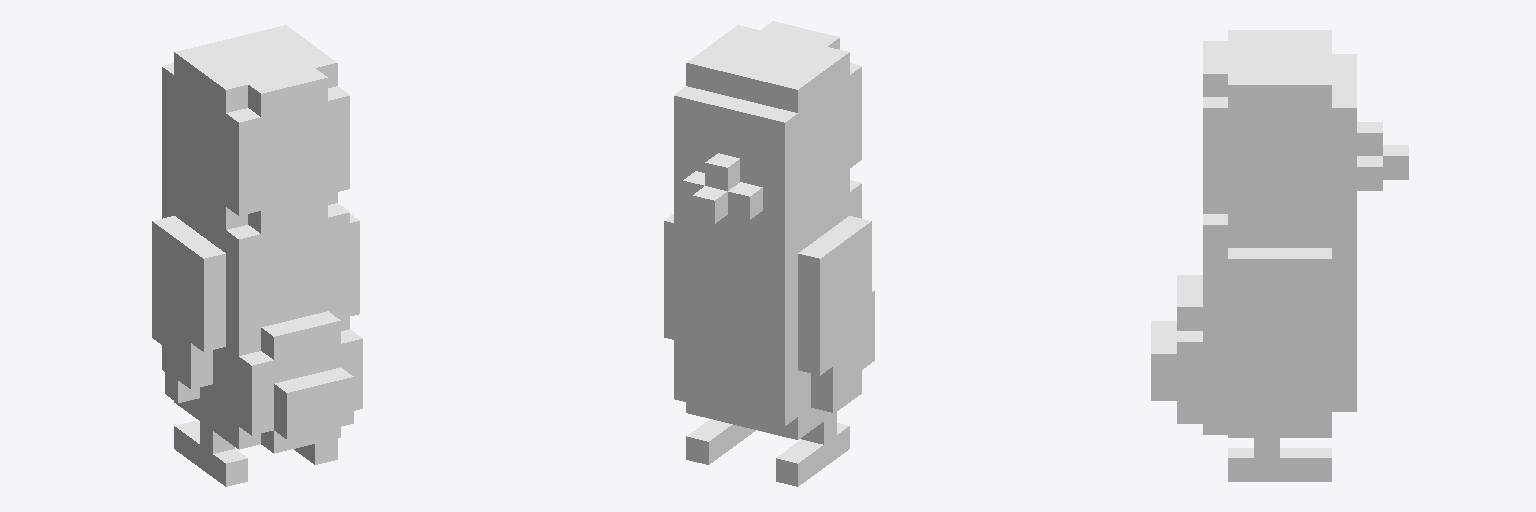
The model's file is penguin_v2.obj.
3 renders of one model, left to right at view 1: azimuth 30°, elevation 25°; view 2: azimuth 150°, elevation 25°; view 3: azimuth 270°, elevation 25°, orthographic.
Visible parts, largest first — view 1: object 1; view 2: object 1; view 3: object 1.
Boxes of the visible parts, x1,y1,x2,y2 form: object 1: [152, 25, 362, 486]; object 1: [664, 21, 874, 486]; object 1: [1151, 30, 1408, 481].
Bounding box in the file's own units: 0.7 × 1.7 × 1.